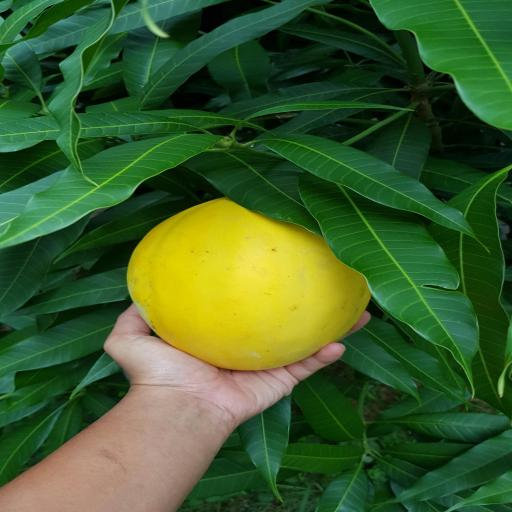Mango-Detection: (27, 145, 465, 432)
